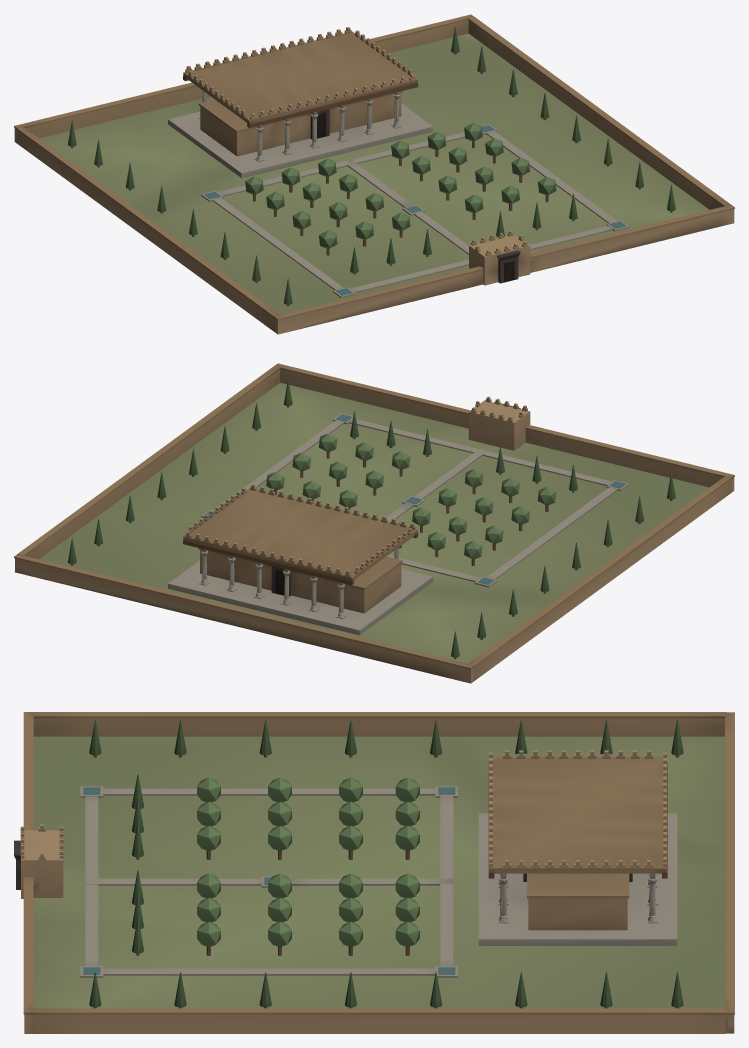
The model's file is plain-palace.glb.
3 views of the same model, one above another, from view 1: azimuth 30°, elevation 25°; view 2: azimuth 150°, elevation 25°; view 3: azimuth 270°, elevation 25° (orthographic). The views are drawn at different scales.
Visible parts, largest first — view 1: p0_garden, p3_roof, p2_pavilion, p1_trees; view 2: p0_garden, p3_roof, p2_pavilion, p1_trees; view 3: p0_garden, p3_roof, p1_trees, p2_pavilion.
Boxes of the visible parts, <box> form: p0_garden: <box>14,14,734,334</box>; p3_roof: <box>183,27,527,256</box>; p2_pavilion: <box>168,90,530,285</box>; p1_trees: <box>68,27,675,306</box>; p0_garden: <box>14,363,734,683</box>; p3_roof: <box>183,396,527,589</box>; p2_pavilion: <box>168,400,530,635</box>; p1_trees: <box>68,380,675,659</box>; p0_garden: <box>23,712,734,1033</box>; p3_roof: <box>20,750,667,898</box>; p1_trees: <box>89,720,683,1008</box>; p2_pavilion: <box>14,813,677,945</box>.
Size of the model in its own units: 100 by 12.12 by 102.
